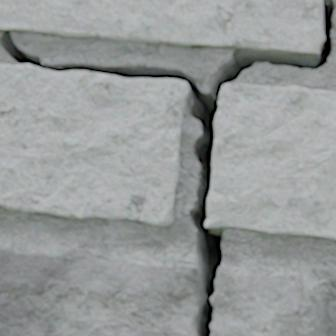brick: (0, 65, 187, 225), (205, 82, 335, 239), (0, 0, 323, 53), (326, 276, 335, 335)
broken_brick: (0, 248, 198, 335), (210, 267, 303, 335)
crack: (1, 0, 334, 335)
